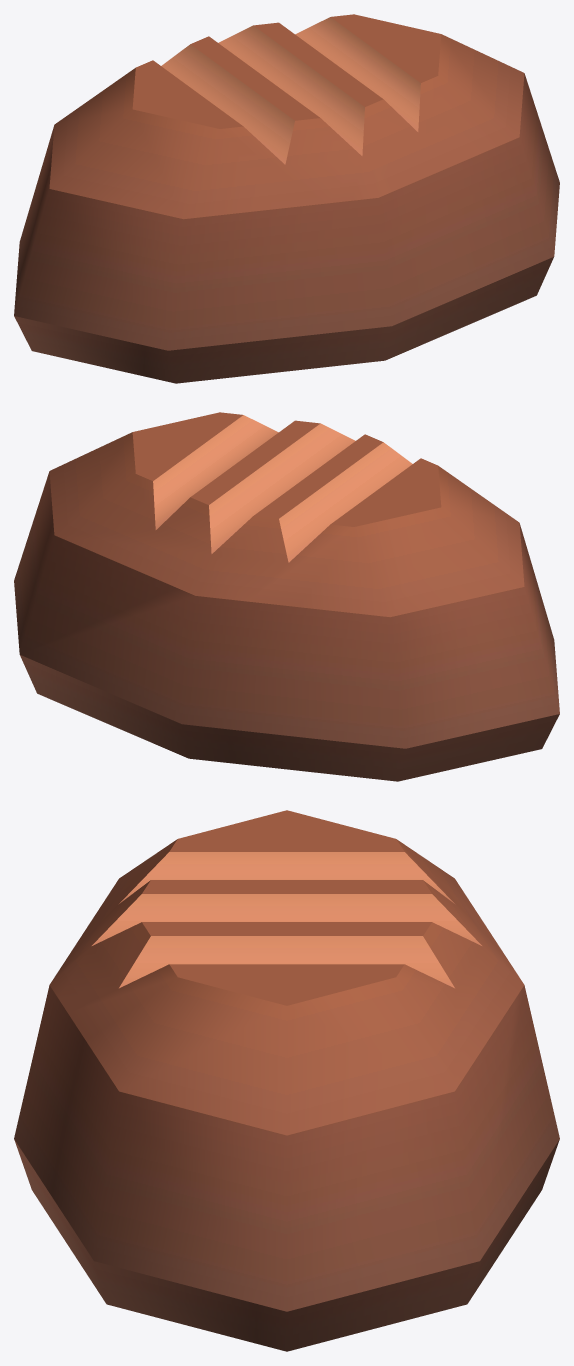
File: loaf-round.glb
3 views of the same model, one above another, from view 1: azimuth 30°, elevation 25°; view 2: azimuth 150°, elevation 25°; view 3: azimuth 270°, elevation 25° (orthographic). The views are drawn at different scales.
Parts seen in each view (by area): view 1: loaf-round; view 2: loaf-round; view 3: loaf-round.
Boxes of the visible parts, box(x1,y1,x2,y2) form: loaf-round: box(14, 14, 559, 383); loaf-round: box(14, 412, 559, 781); loaf-round: box(14, 810, 559, 1351).
Size of the model in its own units: 0.7717 by 0.2932 by 0.5145.
Materials: 1 (1 with a texture image).
